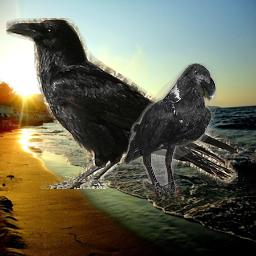Crow: (6, 18, 238, 189), (124, 63, 217, 198)
